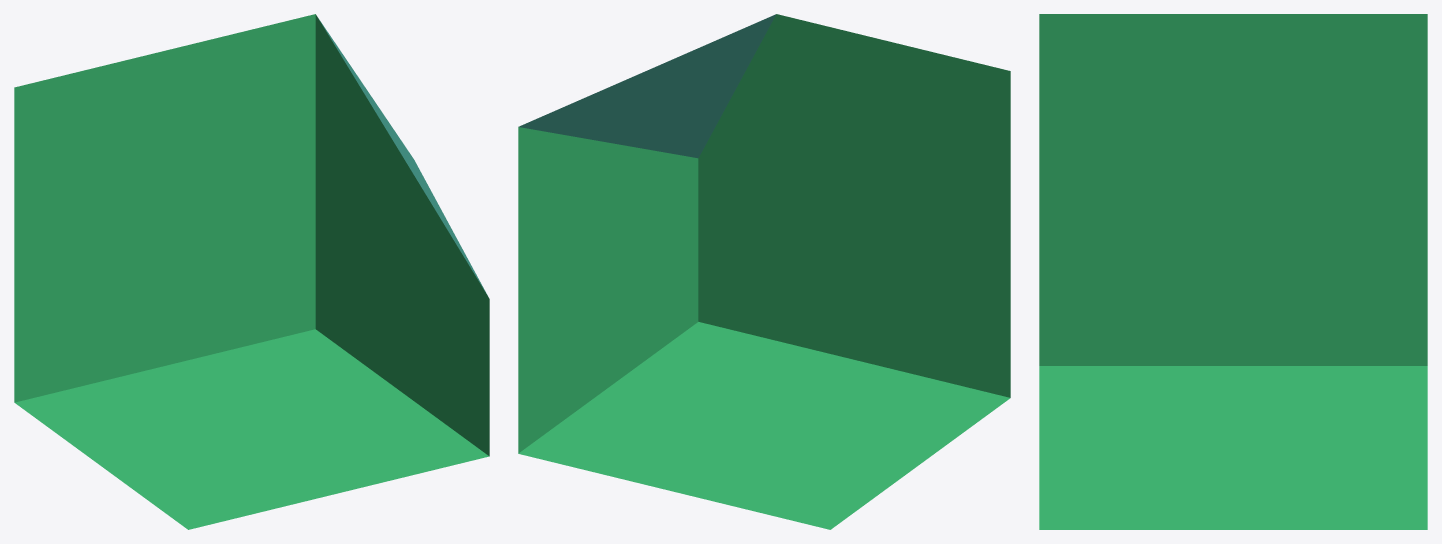
File: r5c4_border_green.gltf
3 views of the same model, side by side, from view 1: azimuth 30°, elevation 25°; view 2: azimuth 150°, elevation 25°; view 3: azimuth 270°, elevation 25° (orthographic). The views are drawn at different scales.
Visible parts, largest first — view 1: r5c4_border_green; view 2: r5c4_border_green; view 3: r5c4_border_green.
Boxes of the visible parts, x1,y1,x2,y2 form: r5c4_border_green: [14, 14, 489, 529]; r5c4_border_green: [518, 14, 1010, 529]; r5c4_border_green: [1039, 14, 1427, 529].
Bounding box in the file's own units: 2.1 × 2.1 × 2.1.
1 material, 1 textured.
